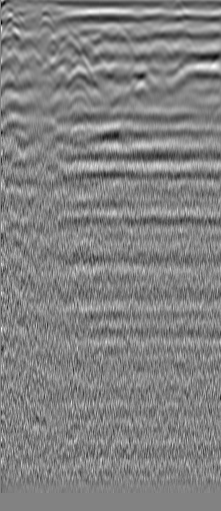오수: (35, 7, 55, 27)
우수: (173, 24, 193, 44)
